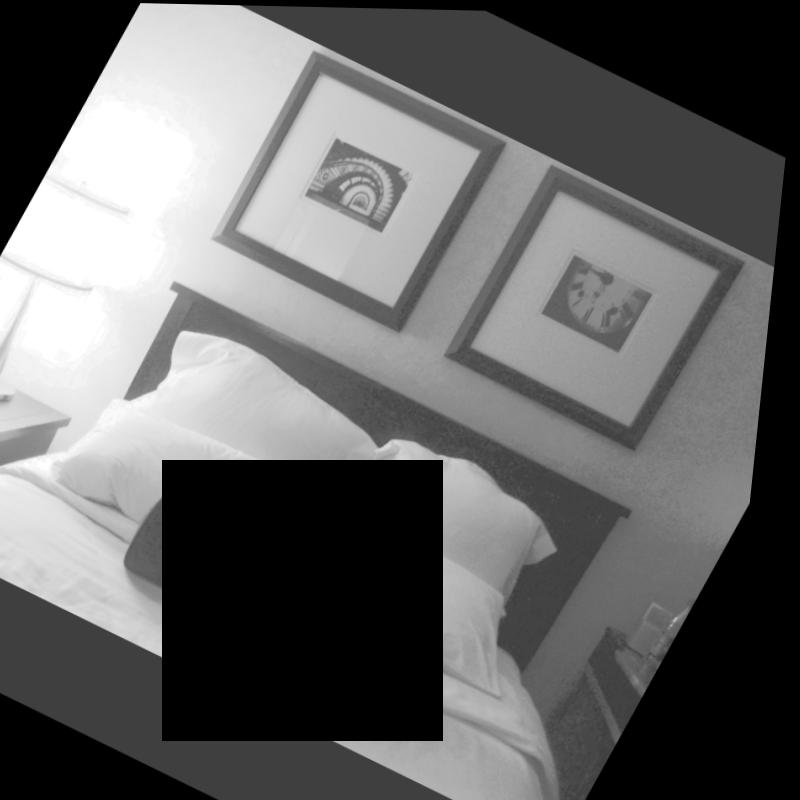pillow: (100, 303, 419, 553), (275, 500, 571, 700), (47, 377, 317, 573)
